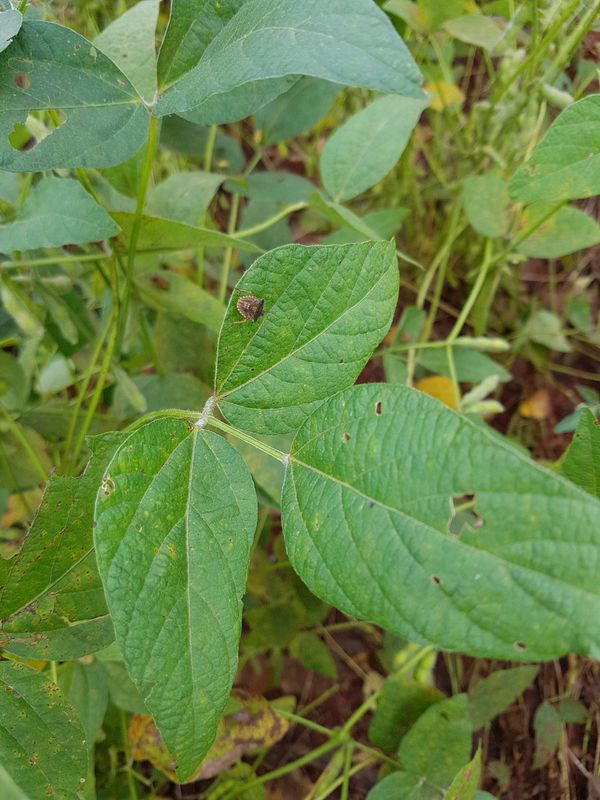Euschistus_heros_ninfa: (222, 285, 271, 330)
